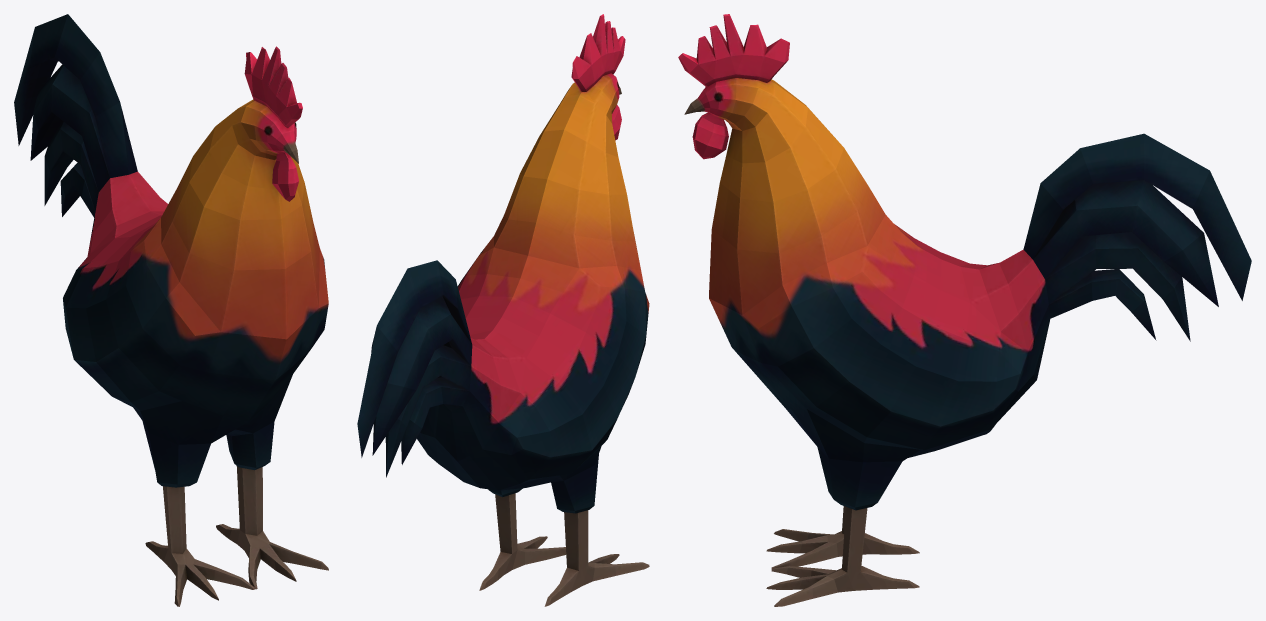
Rendered from rooster.glb.
3 renders of one model, left to right at view 1: azimuth 30°, elevation 25°; view 2: azimuth 150°, elevation 25°; view 3: azimuth 270°, elevation 25°, orthographic. The views are drawn at different scales.
Visible parts, largest first — view 1: Rooster_mesh; view 2: Rooster_mesh; view 3: Rooster_mesh.
Part boxes in pixels (x1,y1,x2,y2): Rooster_mesh: (14,14,328,606); Rooster_mesh: (357,14,649,606); Rooster_mesh: (678,14,1251,606).
Size of the model in its own units: 1.29 by 3.47 by 3.24.
Materials: 1 (1 with a texture image).
